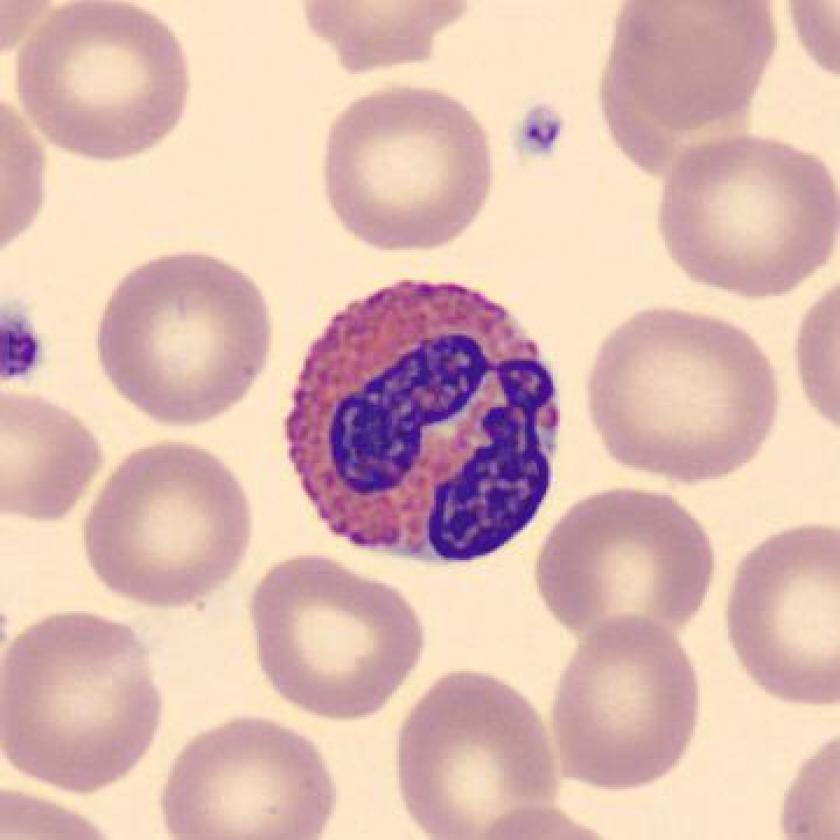eosinophil: (277, 265, 578, 577)
